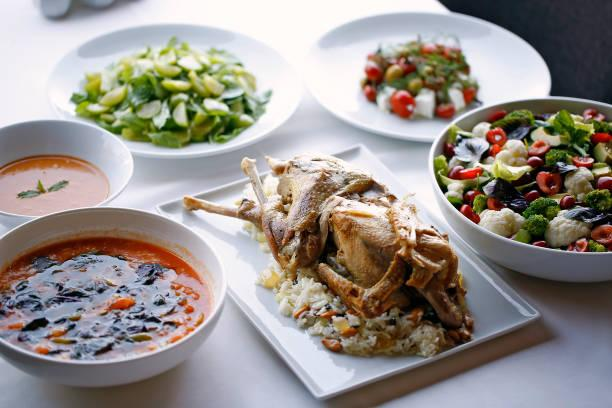Braised Crucian Carp: (158, 144, 537, 399), (0, 207, 225, 387), (426, 88, 612, 282), (45, 22, 300, 161), (303, 10, 546, 144)
